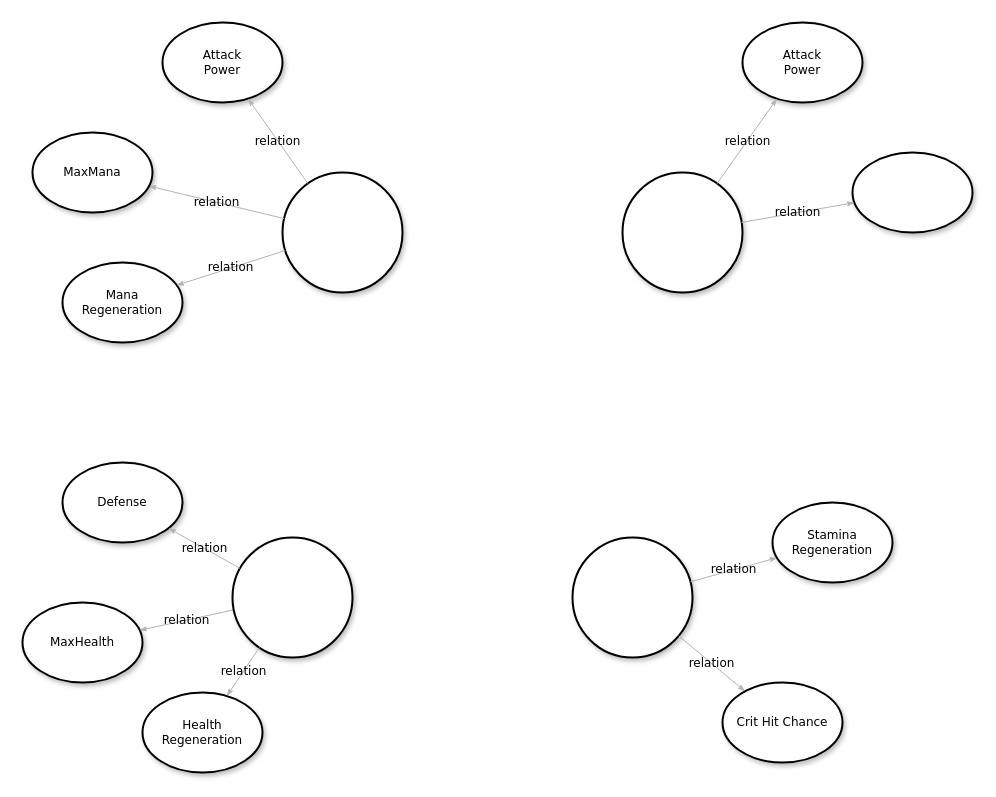
This 996x797 diagram has some shape labels left out. Each missing label, with the centre of its shape:
"Dexterity" belongs at (x=633, y=598).
"Intelligence" belongs at (x=343, y=233).
"Resilience" belongs at (x=293, y=598).
"Strength" belongs at (x=683, y=233).
